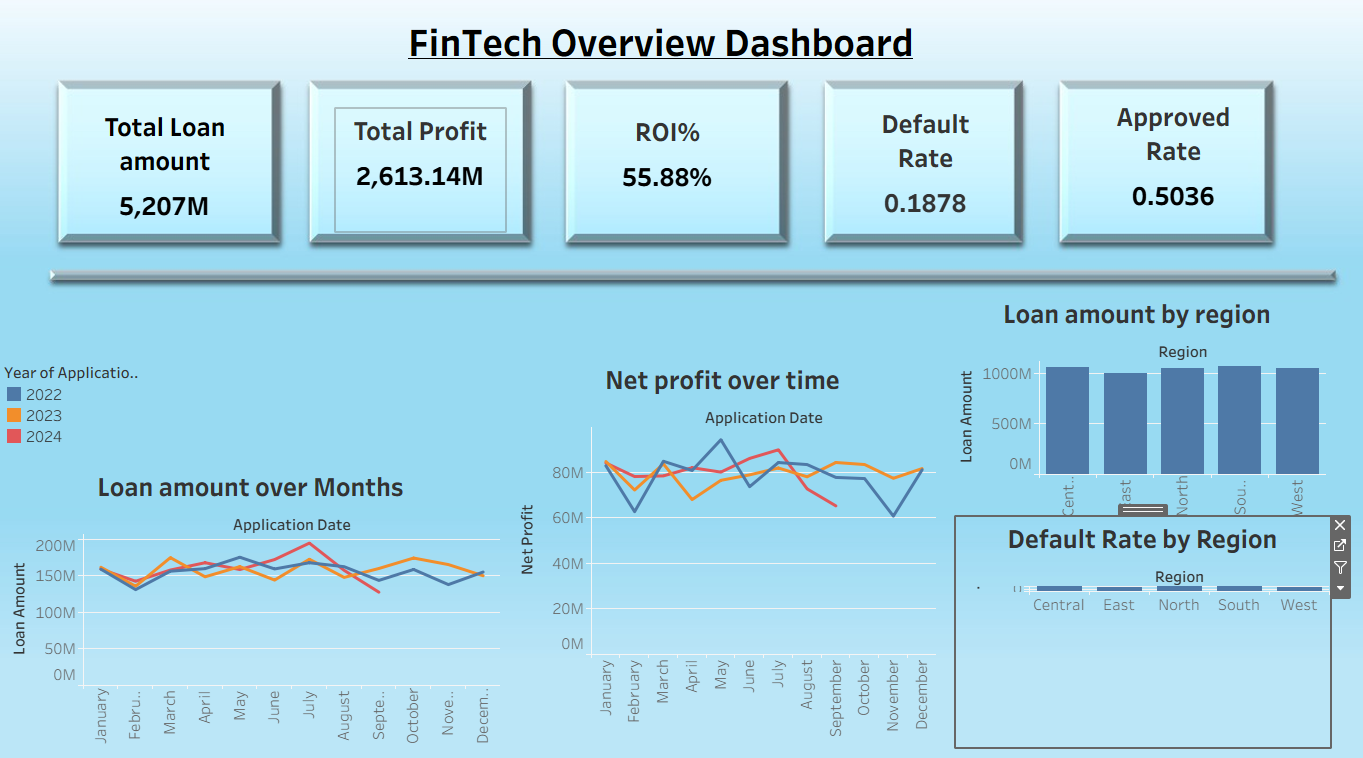

This screenshot's page, from the dashboard's own definition file:
{"tool":"tableau","page":{"name":"Dashboard 1","canvas":[1619,801],"ordinal":1},"visuals":[{"type":"image","param":"Image/Presentation1.jpg","box":[21,10,1371,773]},{"type":"title","box":[56,30,1258,56]},{"type":"worksheet","title":"Approved Rate","mark":"Automatic","box":[1113,112,169,131]},{"type":"worksheet","title":"DEFAULT RATE","mark":"Automatic","box":[885,119,129,117]},{"type":"worksheet","title":"Total Loan amount","mark":"Automatic","box":[103,122,172,119]},{"type":"worksheet","title":"Total Profit","mark":"Automatic","box":[360,126,169,122]},{"type":"worksheet","title":"ROI%","mark":"Automatic","box":[619,127,145,103]},{"type":"worksheet","title":"Loan amount by region","mark":"Automatic","rows":["Loan_Amount"],"cols":["Region"],"box":[972,309,378,227]},{"type":"worksheet","title":"Net profit over time","mark":"Automatic","rows":["Calculation_2597732624631259137"],"cols":["Application_Date"],"box":[533,375,427,396]},{"type":"legend","title":"Monthly Loan Disbursal Trend","param":"[federated.0oi8g6x1n5pqgp17cc9di1d37bk4].[yr:Application_Date:ok]","box":[27.8,379,139.1,85]},{"type":"worksheet","title":"Monthly Loan Disbursal Trend","mark":"Line","rows":["Loan_Amount"],"cols":["Application_Date"],"box":[25,482,499,280]},{"type":"worksheet","title":"Default Rate by Region","mark":"Automatic","rows":["Calculation_2597732624636448773"],"cols":["Region"],"box":[980,534,374,230]}]}

Visuals, with their boxes on the page's 1619x801 design canvas (x1, y1, x2, y2). These are canvas units, not pixel positions in the 1363x758 screenshot, which may show the page scaled, cropped or inside an application window:
image: bbox=[21, 10, 1392, 783]
title: bbox=[56, 30, 1314, 86]
"Approved Rate" worksheet: bbox=[1113, 112, 1282, 243]
"DEFAULT RATE" worksheet: bbox=[885, 119, 1014, 236]
"Total Loan amount" worksheet: bbox=[103, 122, 275, 241]
"Total Profit" worksheet: bbox=[360, 126, 529, 248]
"ROI%" worksheet: bbox=[619, 127, 764, 230]
"Loan amount by region" worksheet: bbox=[972, 309, 1350, 536]
"Net profit over time" worksheet: bbox=[533, 375, 960, 771]
"Monthly Loan Disbursal Trend" legend: bbox=[28, 379, 167, 464]
"Monthly Loan Disbursal Trend" worksheet (Line marks): bbox=[25, 482, 524, 762]
"Default Rate by Region" worksheet: bbox=[980, 534, 1354, 764]
